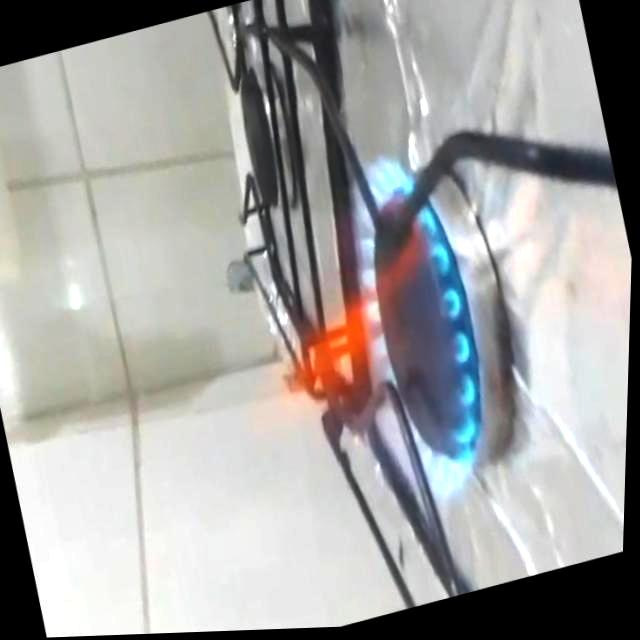fire: (215, 134, 520, 556)
